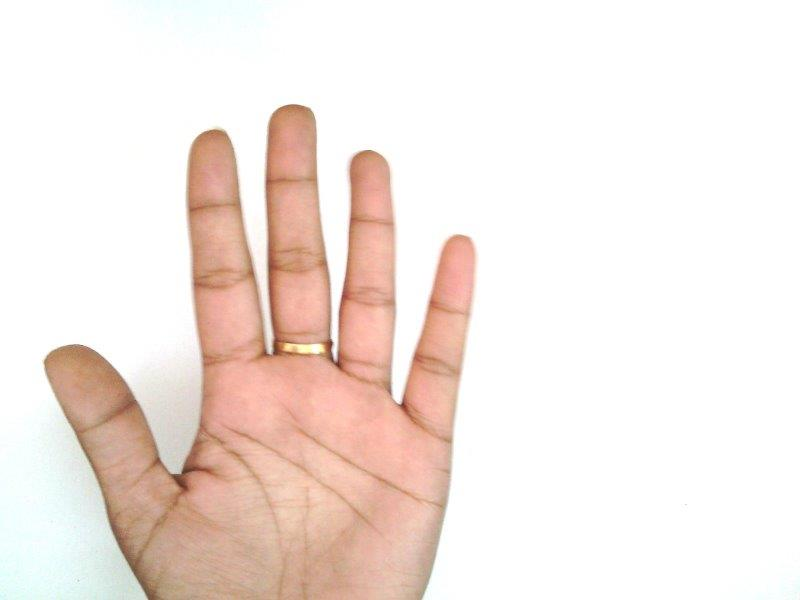hand: (45, 107, 475, 599)
